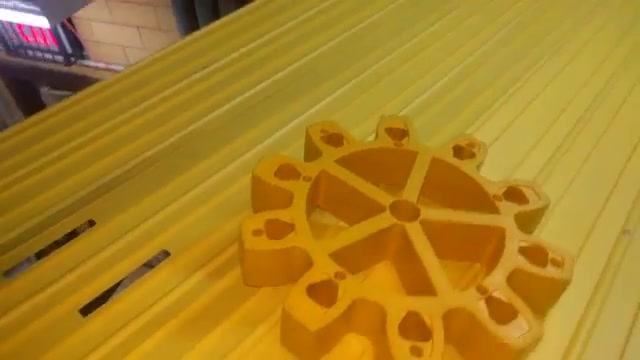gear: (229, 102, 577, 360)
